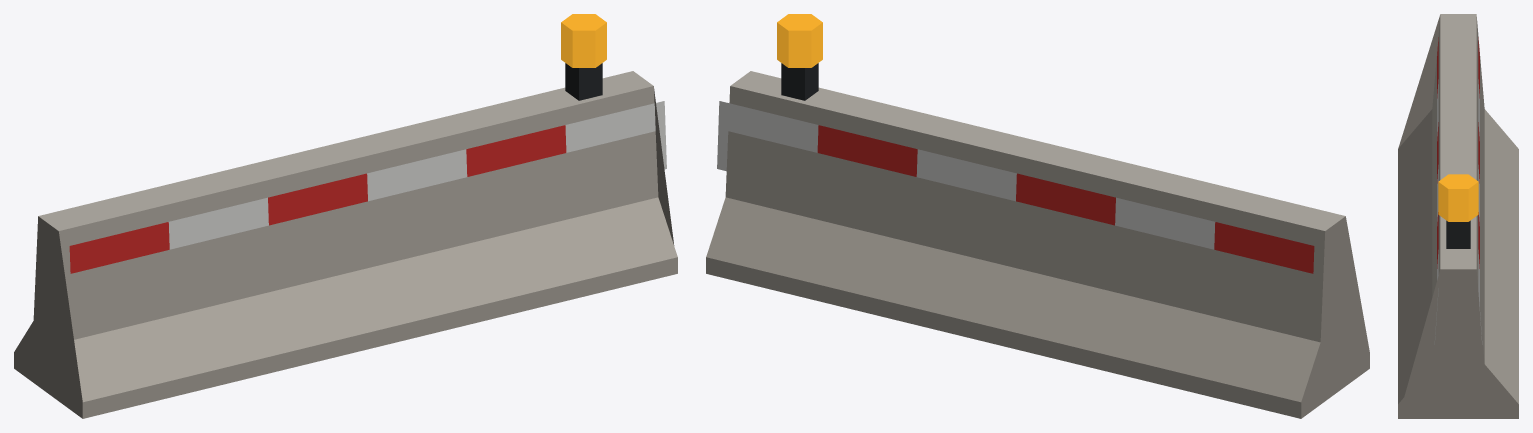
File: prop_barrier.meshopt.glb
3 renders of one model, left to right at view 1: azimuth 30°, elevation 25°; view 2: azimuth 150°, elevation 25°; view 3: azimuth 270°, elevation 25°, orthographic. The views are drawn at different scales.
Parts seen in each view (by area): view 1: barrier, lamp; view 2: barrier, lamp; view 3: barrier, lamp.
Part boxes in pixels (left/top/right/bottom): barrier: left=14, top=63, right=677, bottom=418; lamp: left=561, top=14, right=606, bottom=67; barrier: left=706, top=63, right=1369, bottom=418; lamp: left=777, top=14, right=822, bottom=67; barrier: left=1398, top=14, right=1518, bottom=418; lamp: left=1438, top=174, right=1478, bottom=221.
Bounding box in the file's own units: 3.05 × 1.16 × 0.5998.
